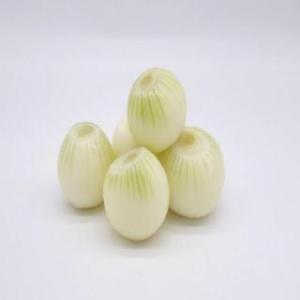onion: (152, 126, 226, 220), (102, 146, 172, 238), (130, 68, 186, 154), (59, 123, 113, 211)
